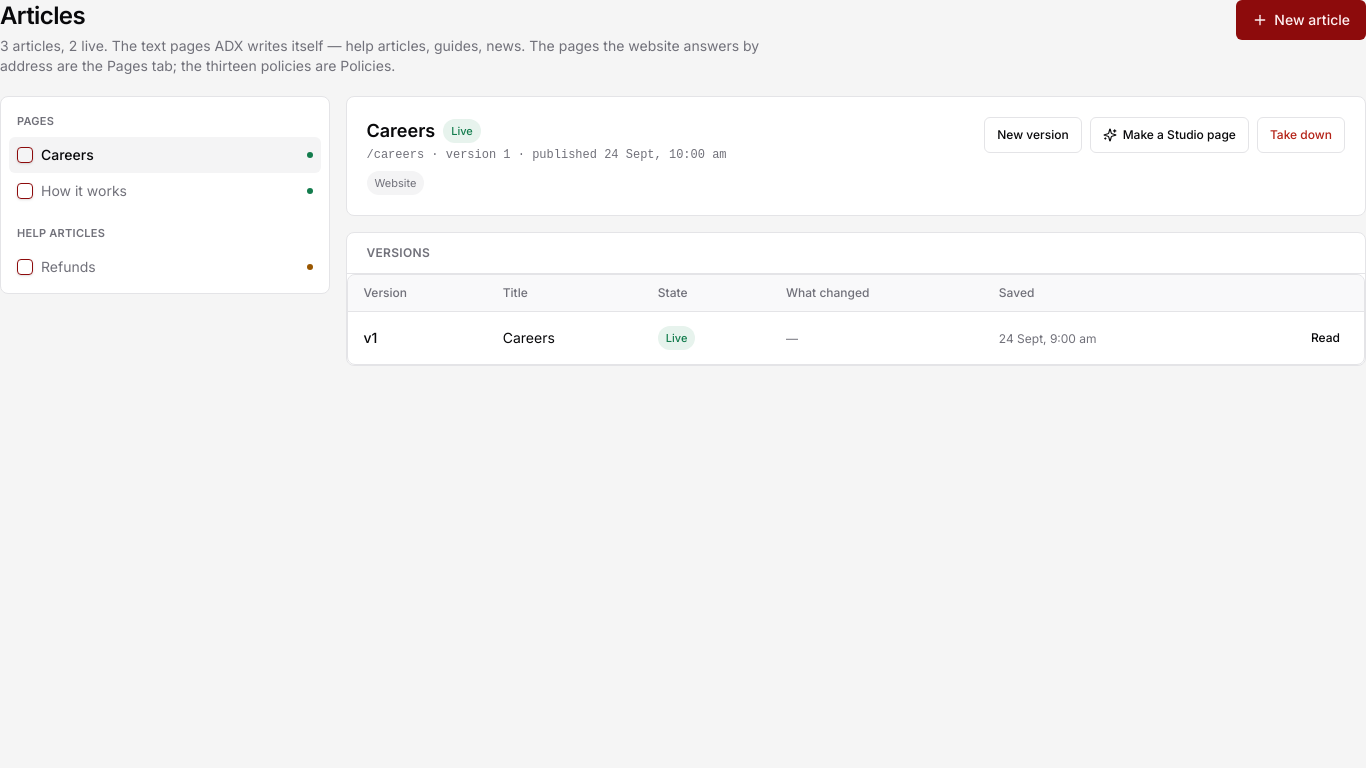
Test: the rail's selection › publishes the draft waiting on each article and skips one with none
Click the checkbox with test id "content-select-how-it-works". click: (25, 191)
box: [17,183,33,199]
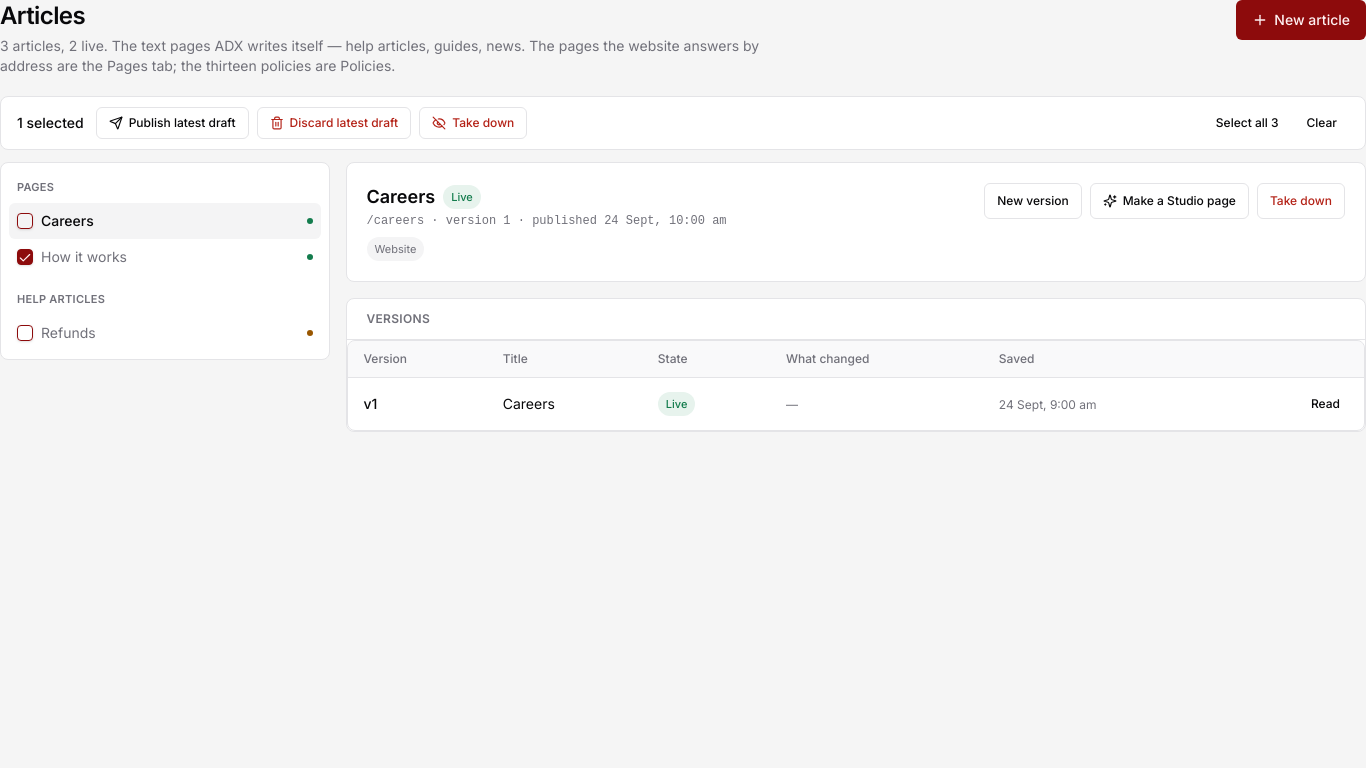
Click the checkbox with test id "content-select-careers". click: (25, 221)
box: [17,213,33,229]
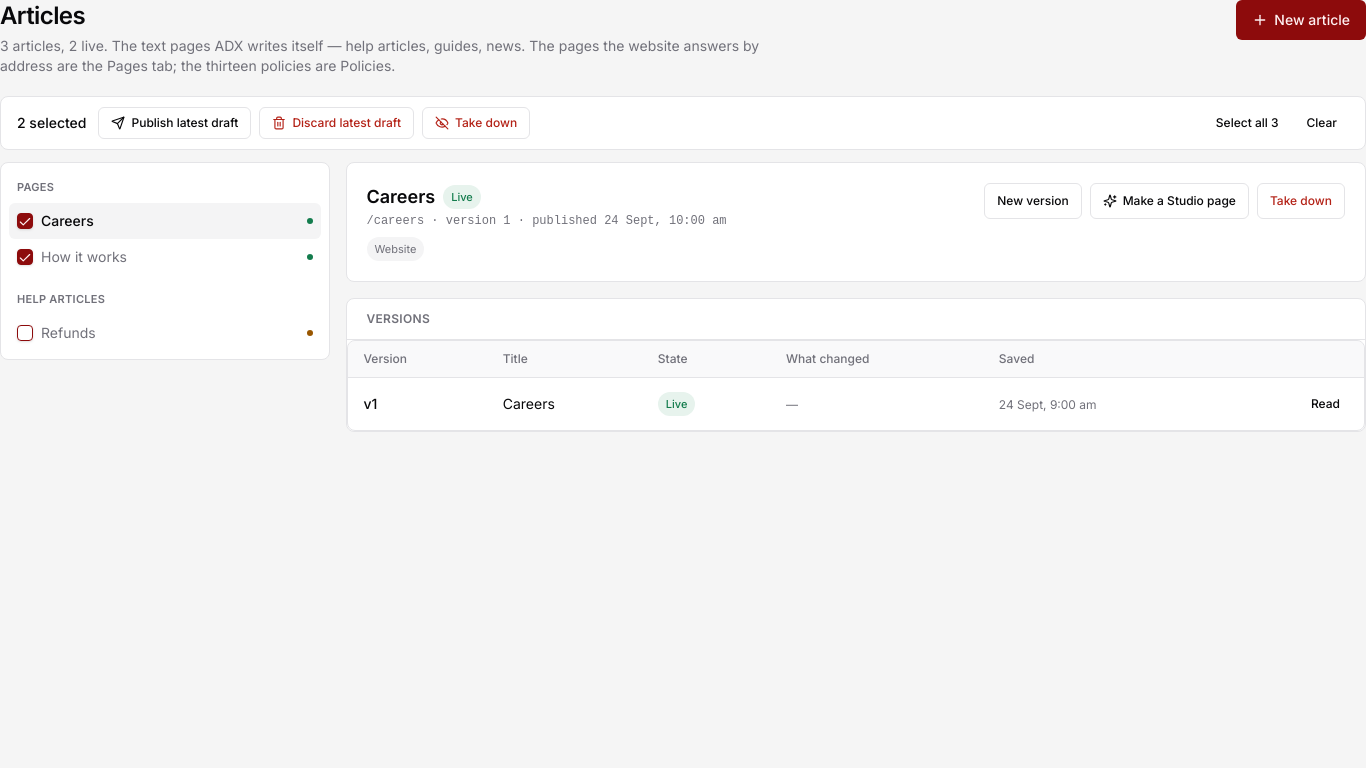
Click the checkbox with test id "content-select-refunds". click: (25, 333)
box: [17,325,33,341]
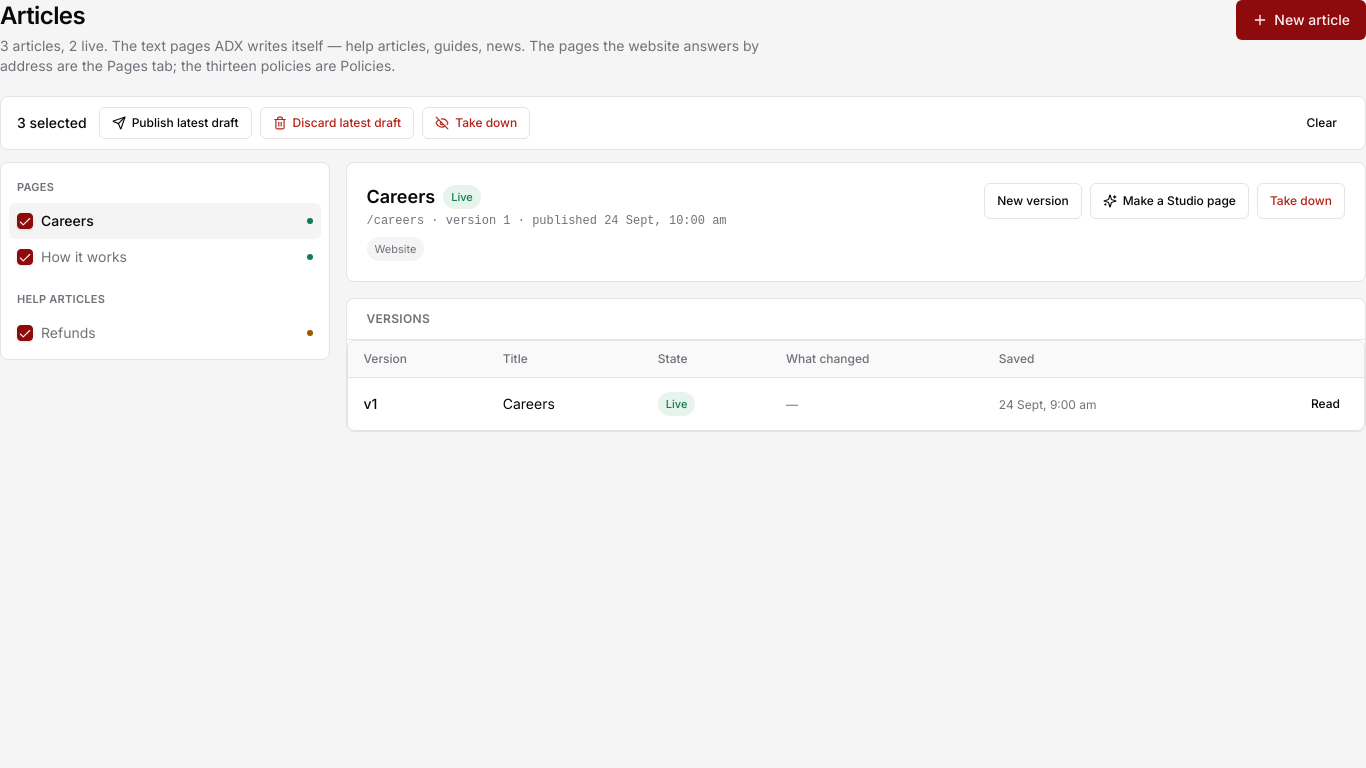
Expected: the text "3 selected" is shown, [17,113,87,133]
Click the button with test id "bulk-publish". click: (175, 123)
box: [99,107,252,139]
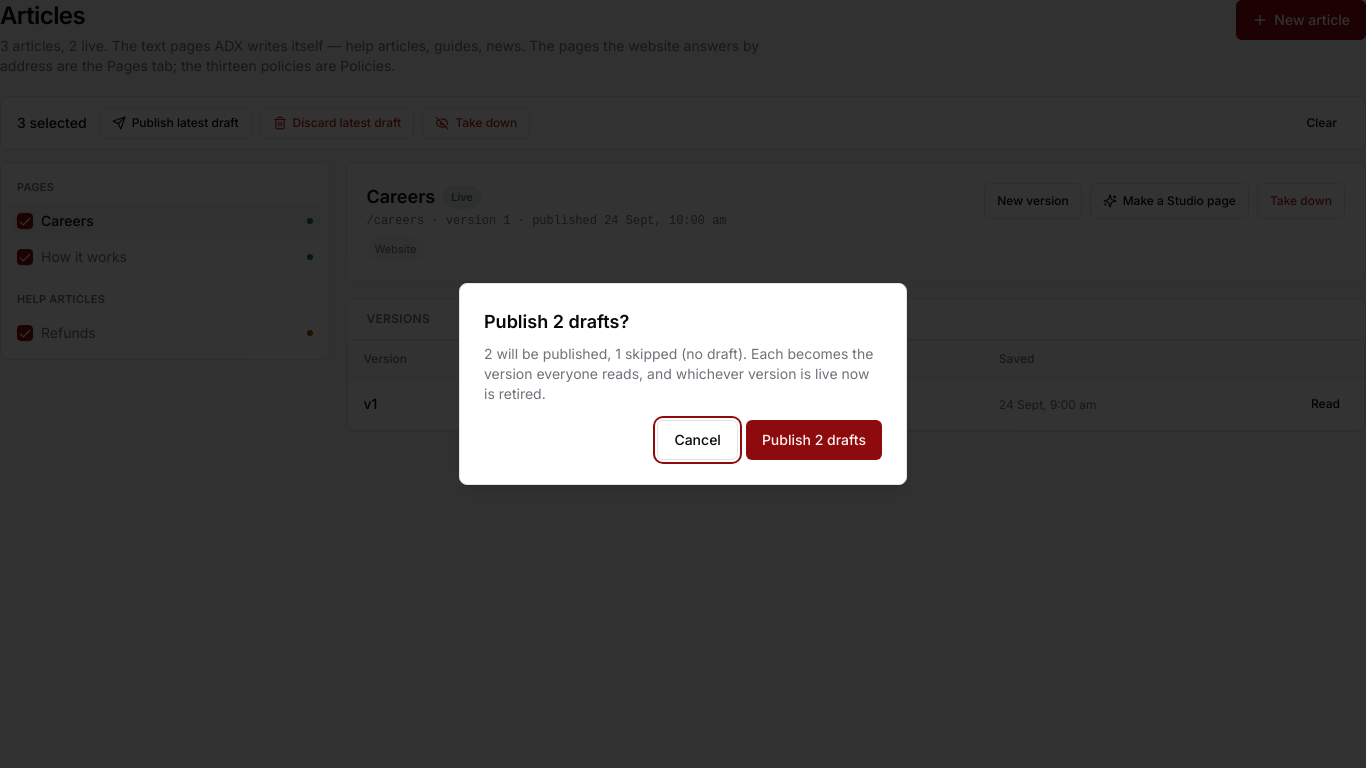
Expected: the text "2 will be published, 1 skipped (no draft)." is shown, [484,345,873,402]
Click the button "Publish 2 drafts". click: (814, 440)
box: [746,420,882,460]
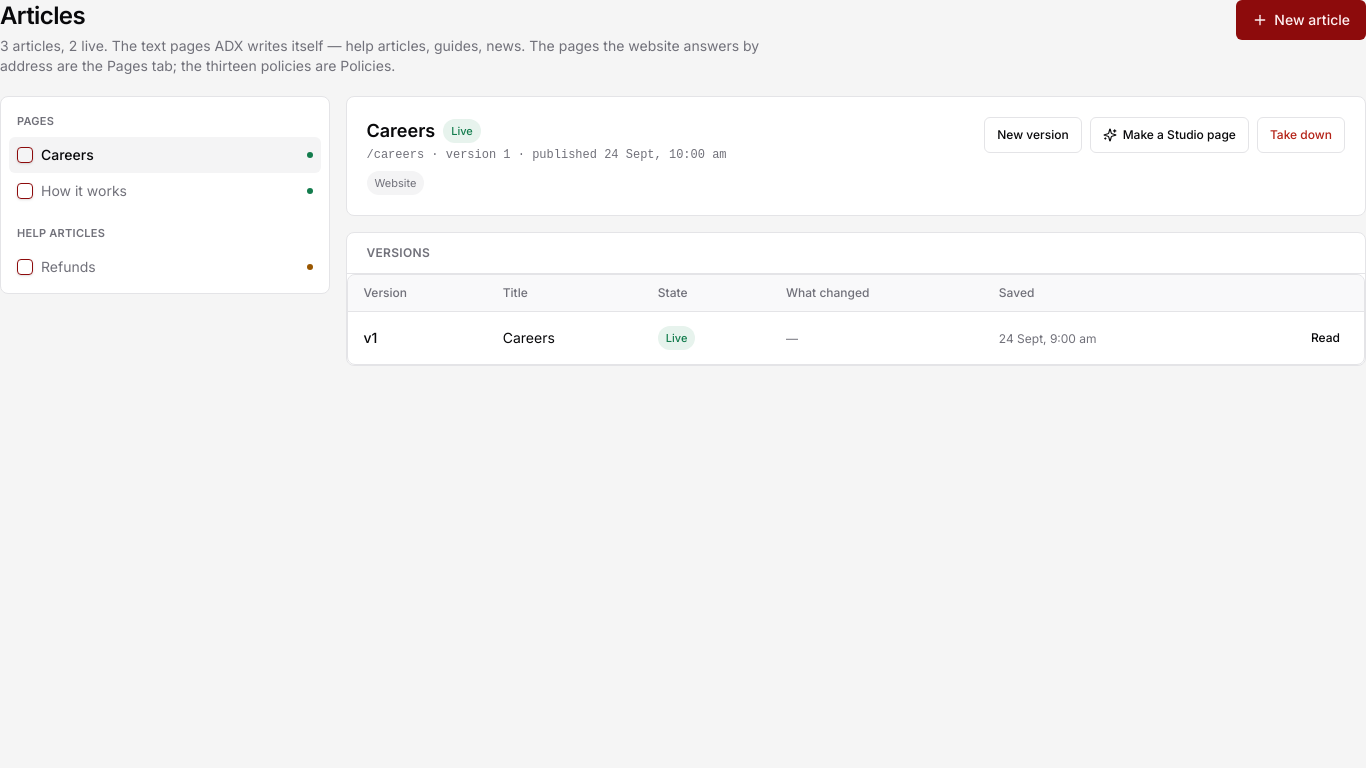
Expected: the element with test id "bulk-bar" is gone
